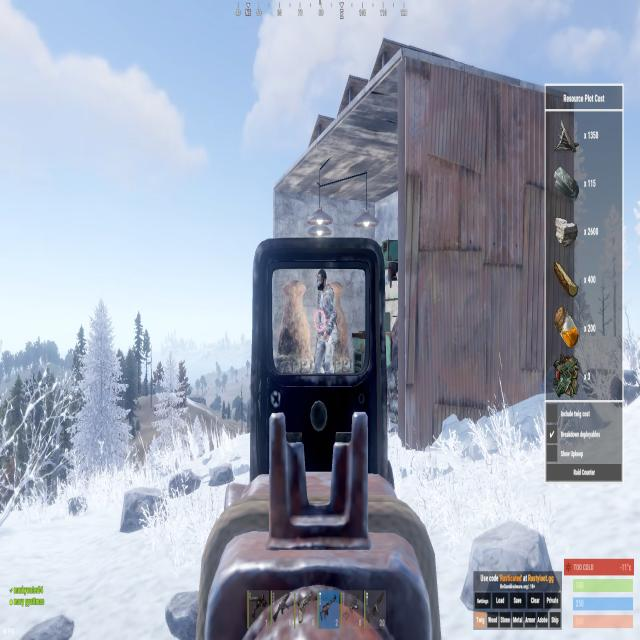Player: (315, 267, 338, 374)
